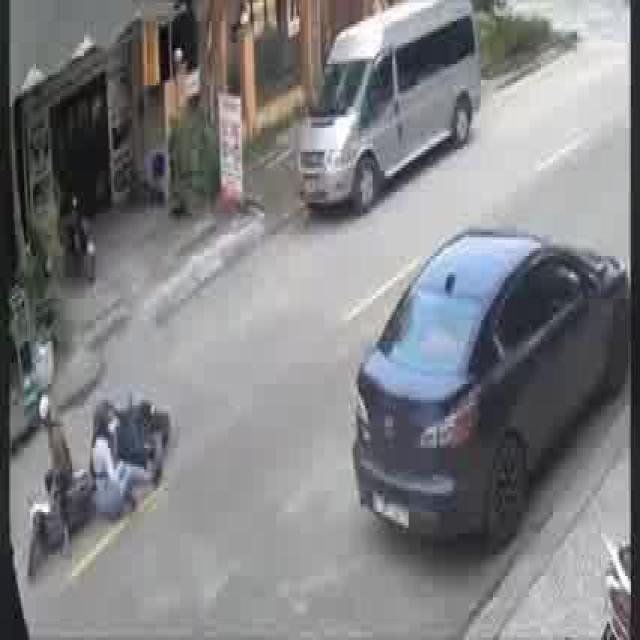multiple_accident: (23, 391, 172, 590)
normal: (319, 194, 640, 570), (276, 0, 496, 217)
